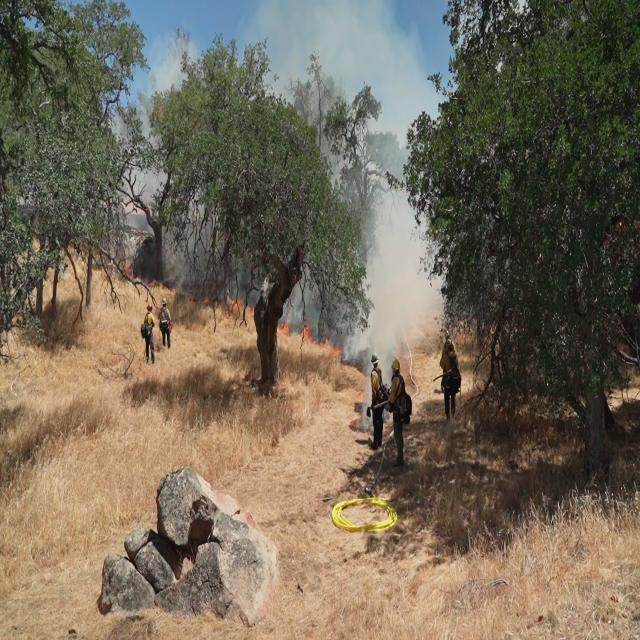Smoke: (281, 125, 443, 362)
